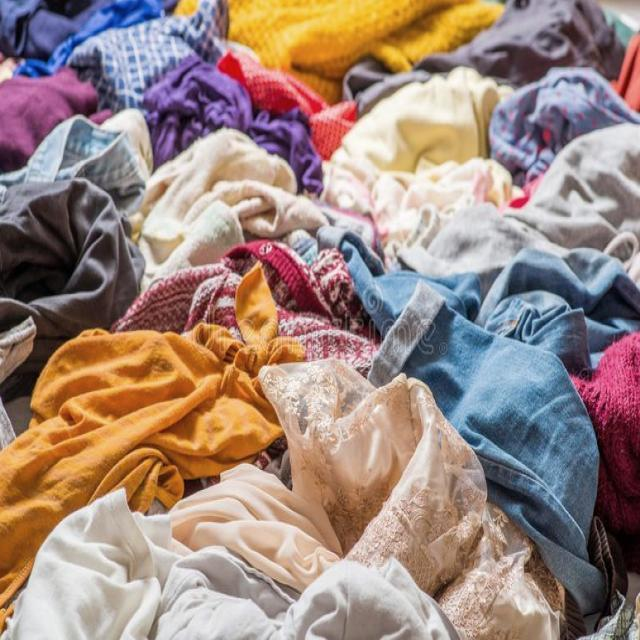clothes: (320, 206, 640, 608), (171, 348, 562, 640), (0, 260, 295, 640), (6, 462, 464, 640), (100, 225, 380, 384), (188, 1, 504, 105), (154, 58, 331, 195), (522, 113, 640, 299), (334, 72, 492, 210), (471, 54, 640, 178), (560, 315, 640, 572), (63, 10, 225, 126)
